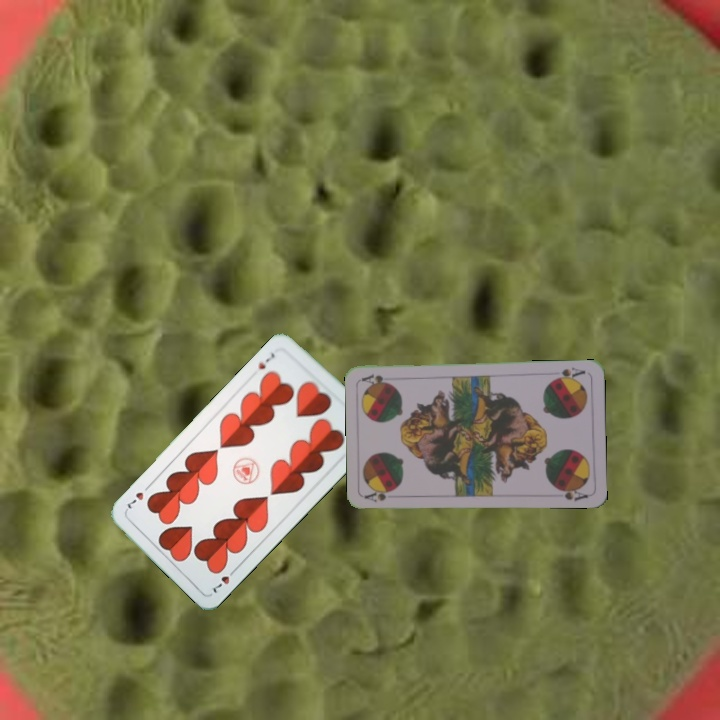H7: (208, 564, 239, 596), (254, 349, 277, 372)
SA: (548, 363, 588, 383), (362, 487, 396, 505)
